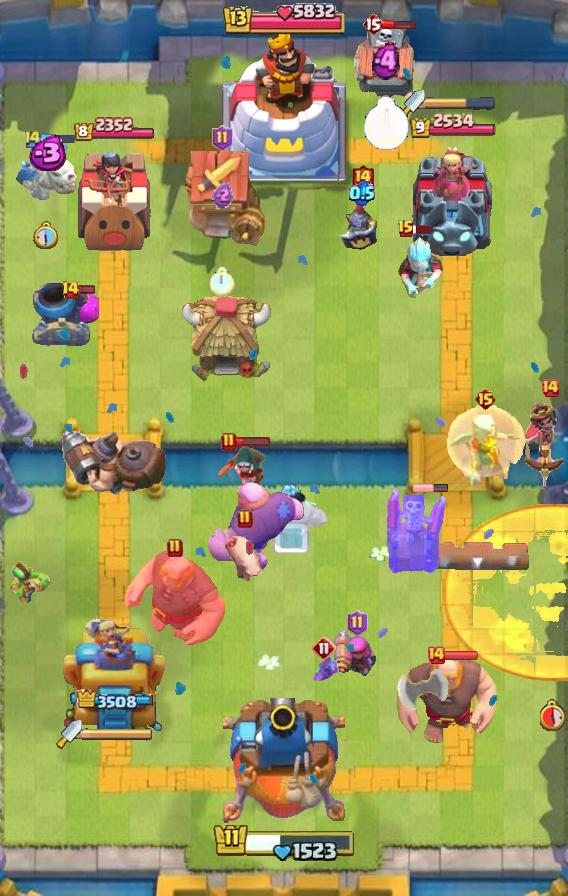balloon: (121, 548, 229, 648), (205, 480, 307, 580), (394, 655, 502, 747)
bar: (61, 615, 166, 731), (409, 142, 497, 256)
barbarian: (309, 651, 339, 683)
bomber-evolution: (520, 403, 568, 495)
clock: (212, 819, 356, 861), (221, 0, 347, 40)
electro-spirit: (24, 135, 68, 171), (372, 42, 400, 81), (349, 180, 375, 206), (211, 182, 233, 208)
elixir: (362, 97, 409, 152), (540, 699, 567, 731), (209, 267, 235, 297), (33, 222, 59, 251)
elixir-golem-mid: (351, 21, 421, 107)
emote: (41, 132, 76, 144), (235, 437, 271, 448), (443, 651, 479, 662), (382, 19, 417, 30), (413, 483, 449, 493), (412, 224, 432, 235), (76, 285, 95, 296)
giant: (222, 533, 268, 585)
giant-snowball: (3, 561, 51, 605)
king-tower: (222, 31, 346, 181), (223, 698, 345, 826)
king-tower-bar: (82, 727, 154, 741), (425, 97, 495, 111)
miner: (67, 294, 99, 324)
mini-pekka: (13, 142, 79, 206)
minion: (425, 541, 533, 571)
mortar: (397, 234, 445, 298)
musketeer: (32, 282, 92, 346)
phoenix-egg: (440, 502, 568, 681)
poison: (444, 404, 529, 496)
prince: (181, 294, 275, 384)
princess: (337, 196, 387, 254)
queen-tower: (71, 144, 157, 255)
rage: (257, 483, 337, 553)
royal-giant: (397, 669, 449, 729)
selected: (409, 112, 497, 140), (72, 117, 155, 143), (75, 689, 153, 711)
skeleton-king-bar: (387, 484, 449, 574)
sparky: (179, 150, 265, 248)
tesla: (216, 444, 266, 502)
text: (350, 163, 375, 194), (312, 636, 336, 660), (211, 125, 233, 151), (475, 387, 498, 411), (348, 610, 369, 636), (362, 12, 384, 36), (23, 127, 43, 149), (540, 378, 560, 398), (426, 645, 446, 665), (60, 280, 79, 300), (397, 219, 415, 239), (221, 432, 237, 452), (237, 509, 253, 529), (167, 538, 183, 558)
tombstone: (332, 627, 382, 681)
wizard: (58, 427, 170, 497)
